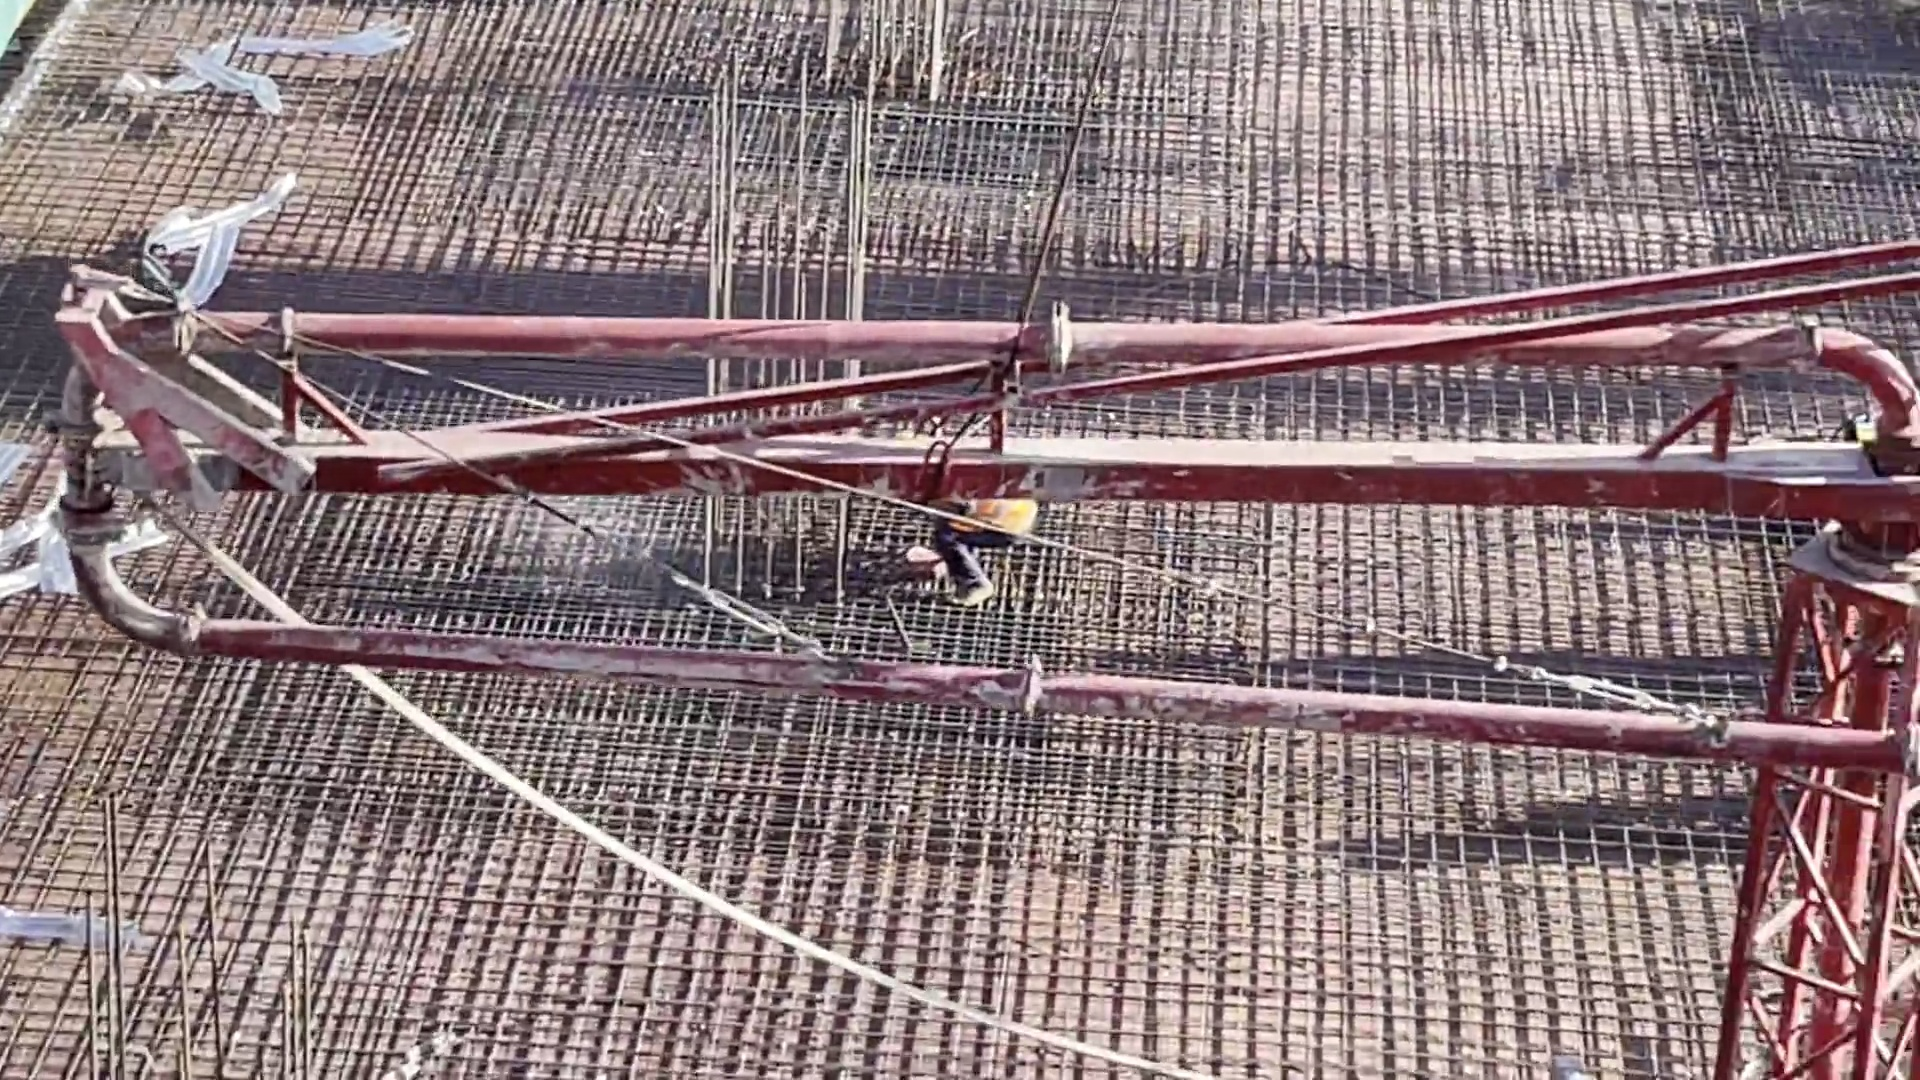person: (899, 486, 1054, 613)
vest: (942, 496, 1042, 546)
